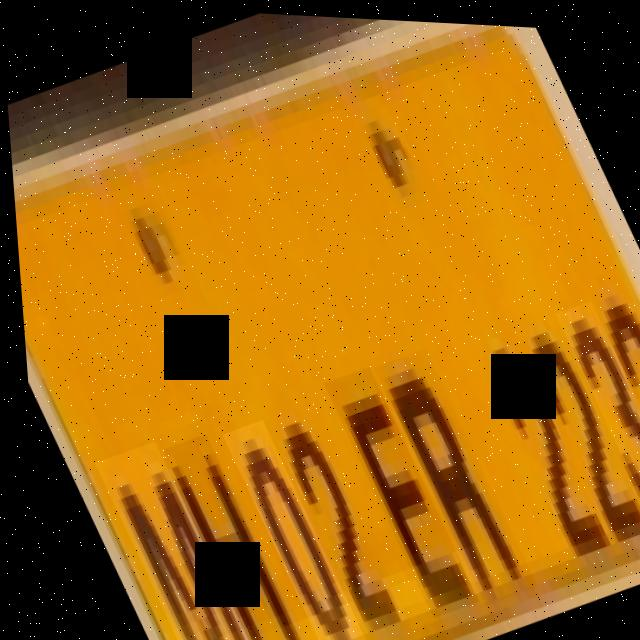0: (214, 415, 358, 640)
3: (549, 292, 640, 526)
E: (316, 361, 471, 615)
H: (155, 429, 303, 640)
M: (85, 437, 256, 640)
R: (367, 341, 530, 602)
